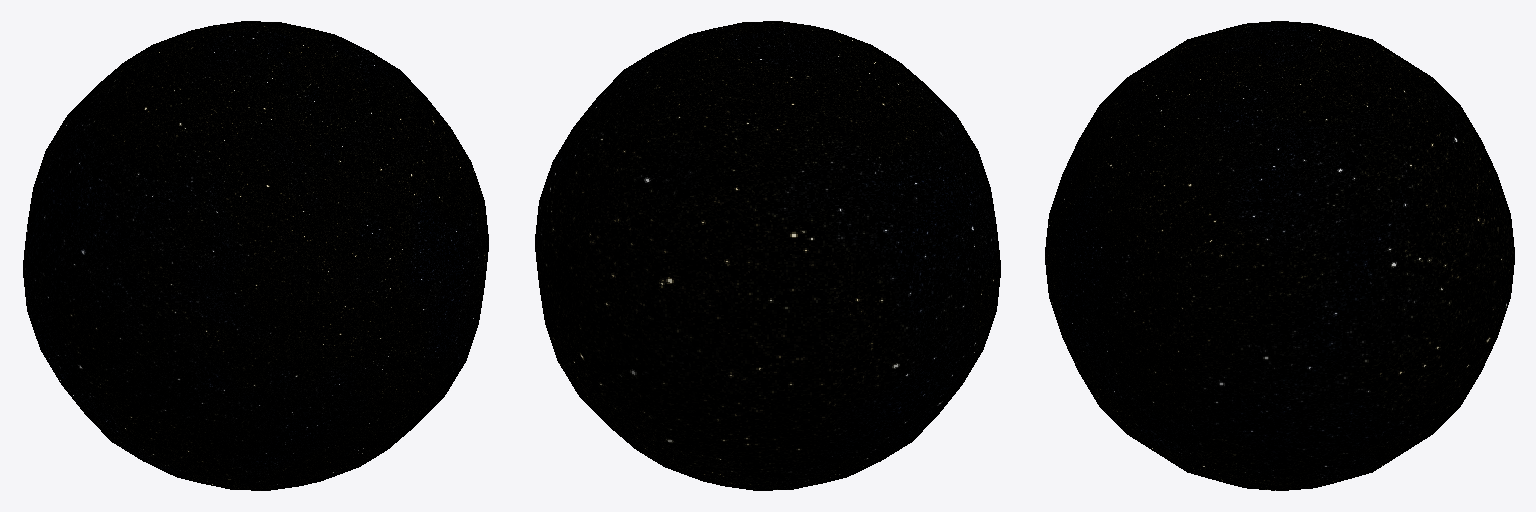
The picture shows the model from 3 angles: view 1: azimuth 30°, elevation 25°; view 2: azimuth 150°, elevation 25°; view 3: azimuth 270°, elevation 25°; orthographic projection.
Parts seen in each view (by area): view 1: sphere1; view 2: sphere1; view 3: sphere1.
Boxes of the visible parts, x1=… form: sphere1: x1=23, y1=21, x2=488, y2=490; sphere1: x1=535, y1=21, x2=1000, y2=490; sphere1: x1=1045, y1=21, x2=1514, y2=490.
Size of the model in its own units: 2 by 2 by 2.
1 materials, 1 textured.